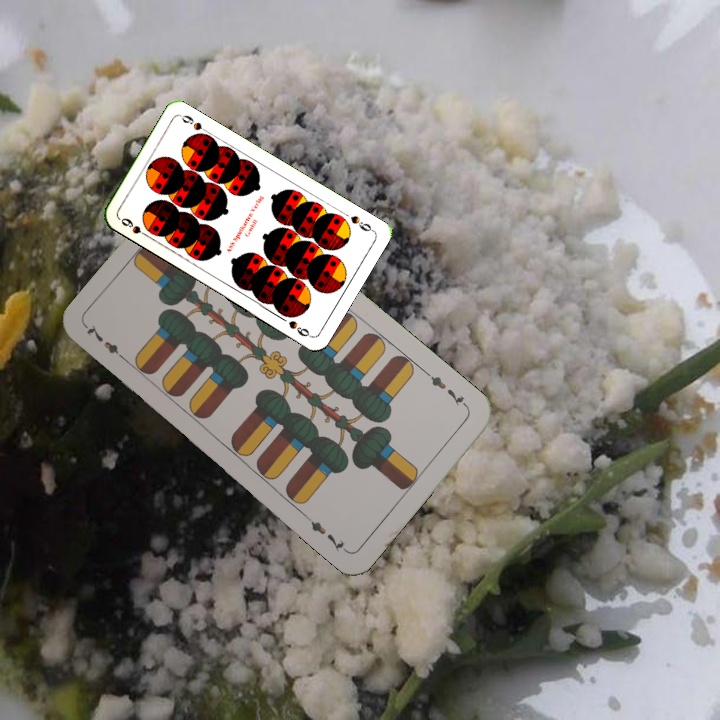E7: (82, 320, 131, 365), (422, 368, 471, 411)
S9: (117, 214, 153, 241), (346, 211, 377, 234)
